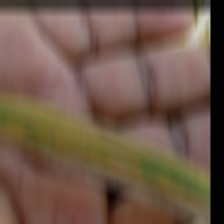Leaf_Blast: (0, 88, 195, 207)
